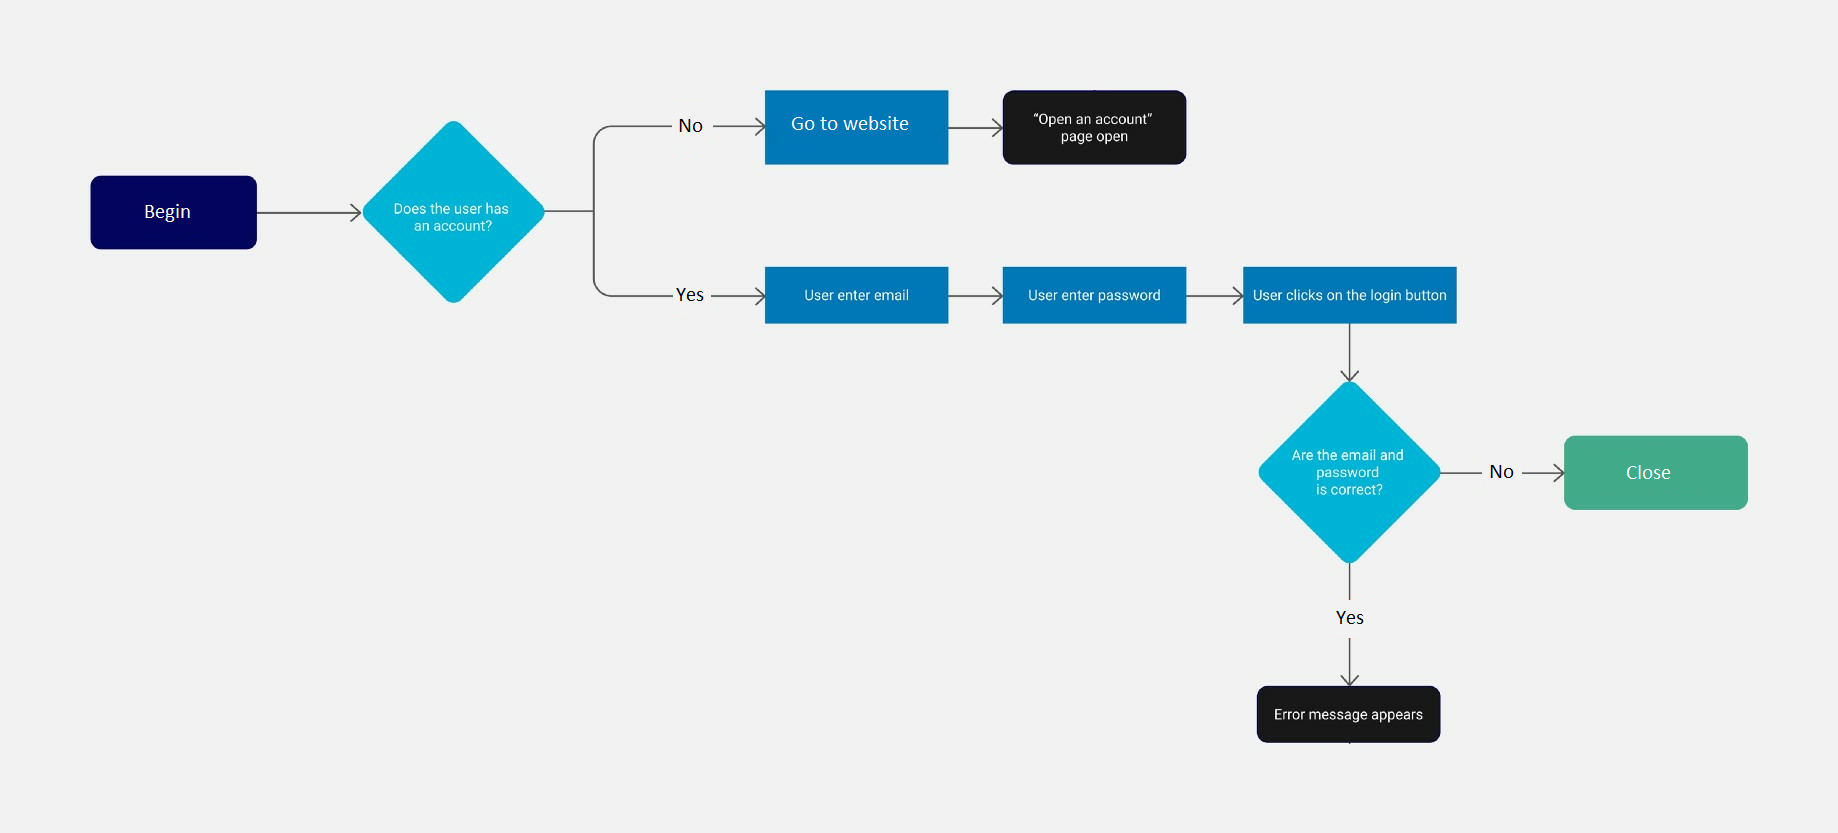arrow: (549, 111, 765, 221), (542, 204, 765, 309), (1436, 460, 1564, 489), (258, 200, 365, 228), (1340, 561, 1360, 685), (947, 280, 1005, 310), (942, 112, 1006, 139), (1190, 284, 1245, 308), (1337, 325, 1362, 380)
decision: (358, 121, 545, 308), (1253, 376, 1442, 561)
process: (998, 83, 1193, 172), (1560, 430, 1756, 519), (760, 86, 953, 172), (1235, 259, 1464, 332), (82, 169, 266, 258), (995, 259, 1192, 332), (758, 259, 957, 330), (1253, 683, 1445, 747)
text: (1286, 439, 1410, 506), (1024, 104, 1160, 153), (384, 196, 516, 246), (1250, 280, 1454, 310), (1266, 699, 1427, 732), (784, 109, 914, 145), (1019, 282, 1171, 309), (794, 282, 921, 310), (134, 198, 197, 228), (1616, 458, 1672, 489), (669, 284, 708, 309), (666, 117, 708, 141), (1334, 602, 1366, 630), (1484, 460, 1517, 485)
